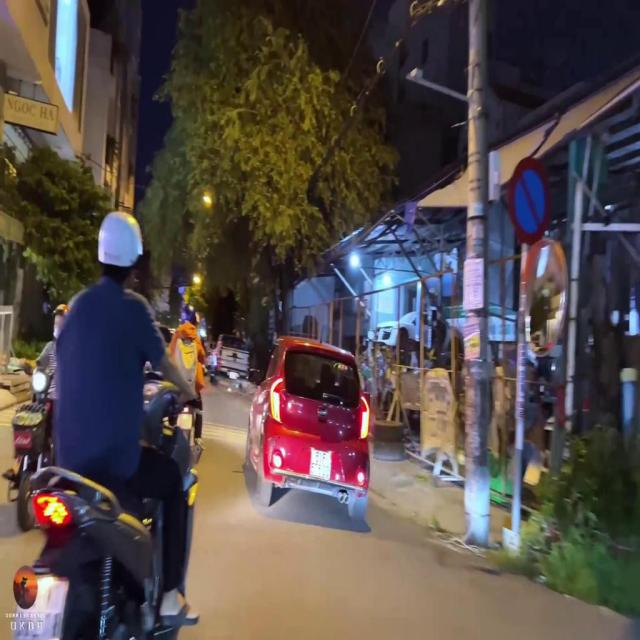cam_do_xe: (510, 157, 552, 247)
